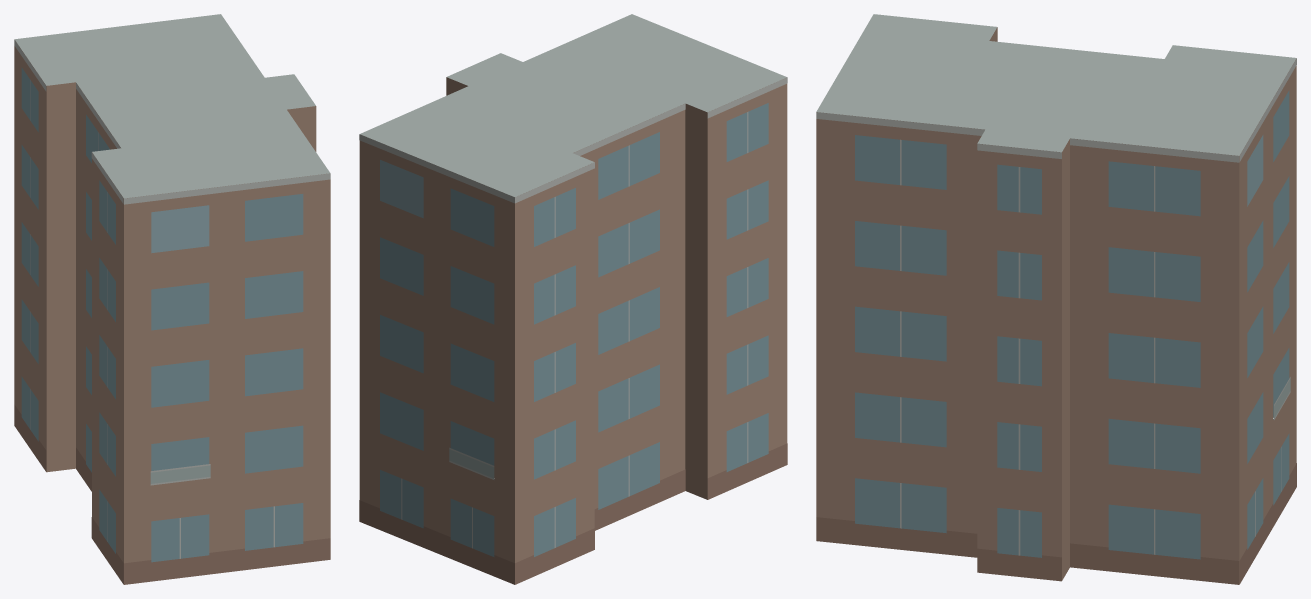
File: survey-upis-32624717.glb
3 views of the same model, side by side, from view 1: azimuth 30°, elevation 25°; view 2: azimuth 150°, elevation 25°; view 3: azimuth 270°, elevation 25° (orthographic). The views are drawn at different scales.
Visible parts, largest first — view 1: survey-upis-32624717.tmp; view 2: survey-upis-32624717.tmp; view 3: survey-upis-32624717.tmp.
Part boxes in pixels (bbox=[...]): survey-upis-32624717.tmp: bbox=[14, 14, 330, 584]; survey-upis-32624717.tmp: bbox=[359, 14, 787, 584]; survey-upis-32624717.tmp: bbox=[816, 14, 1296, 584].
Bounding box in the file's own units: 10.83 × 15.25 × 15.49.
